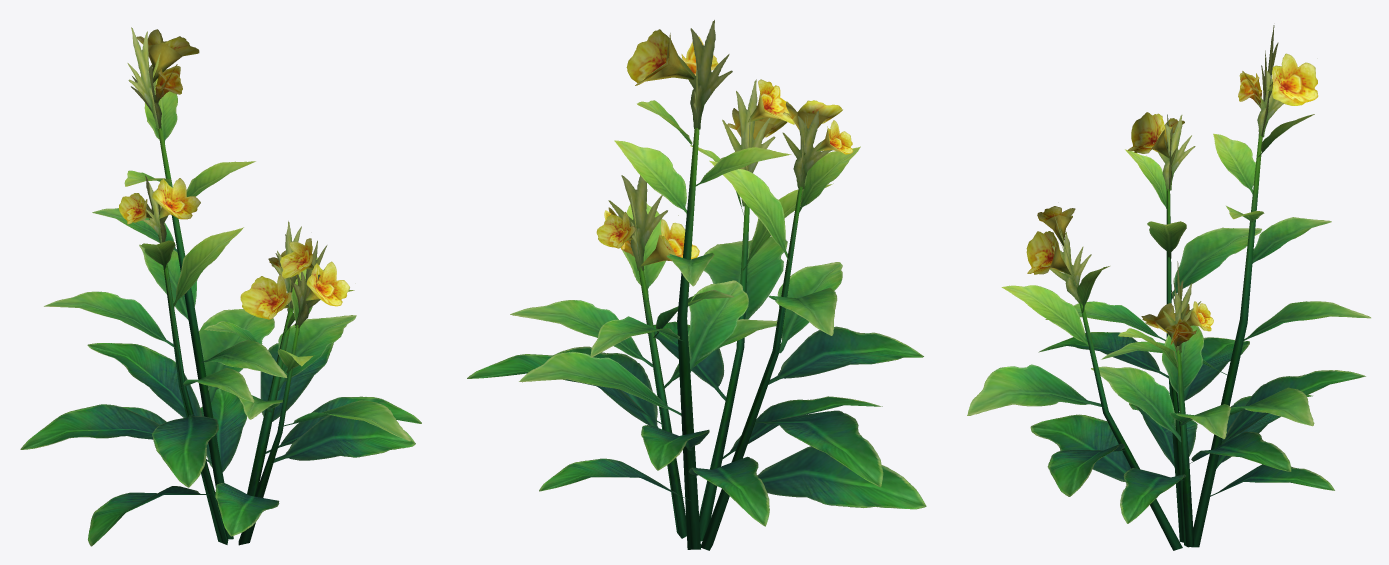
The model's file is wm_灌木美人蕉.fbx.
3 renders of one model, left to right at view 1: azimuth 30°, elevation 25°; view 2: azimuth 150°, elevation 25°; view 3: azimuth 270°, elevation 25°, orthographic. The views are drawn at different scales.
Parts seen in each view (by area): view 1: wm_灌木美人蕉; view 2: wm_灌木美人蕉; view 3: wm_灌木美人蕉.
Boxes of the visible parts, x1,y1,x2,y2 form: wm_灌木美人蕉: (20,27,421,546); wm_灌木美人蕉: (467,20,926,550); wm_灌木美人蕉: (967,25,1370,550).
Bounding box in the file's own units: 162 × 216 × 162.
